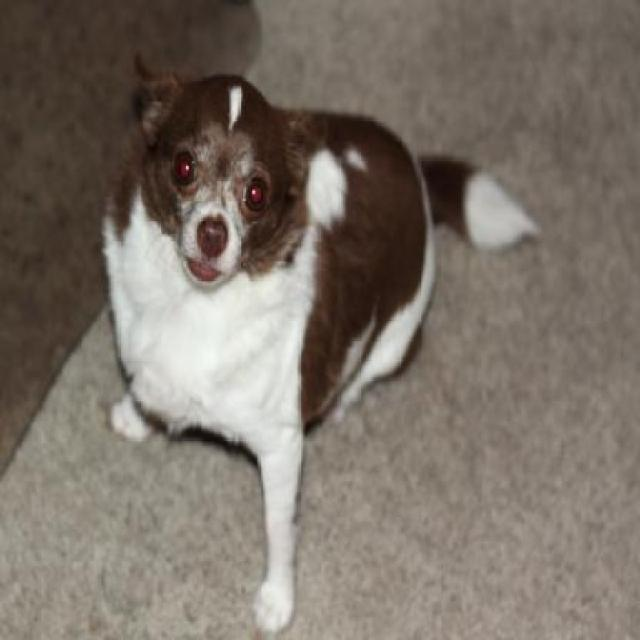Dog: (103, 52, 545, 638)
